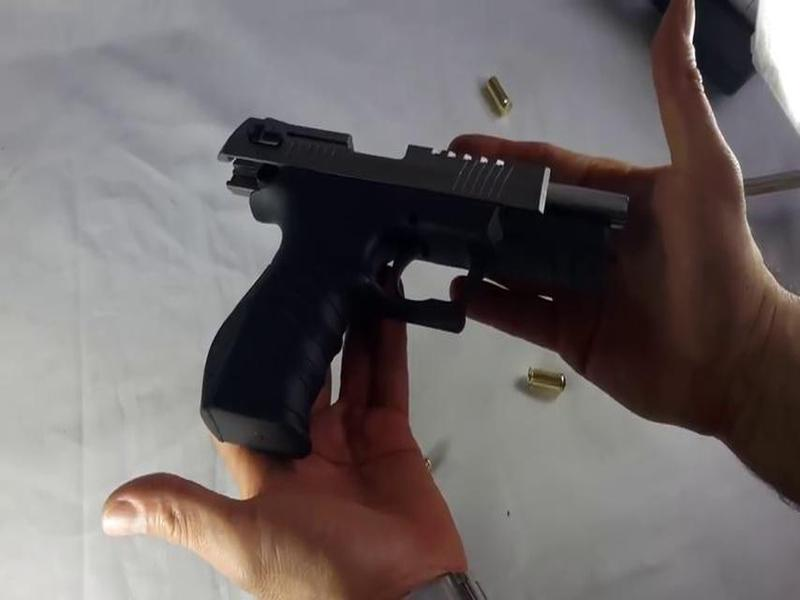Pistola: (180, 101, 623, 443)
